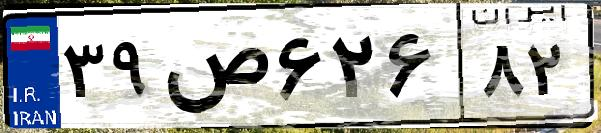2: (330, 28, 385, 110), (525, 38, 570, 115)
3: (57, 26, 110, 100)
6: (270, 28, 330, 110), (385, 28, 445, 110)
8: (475, 38, 525, 113)
9: (110, 28, 158, 98)
ص: (158, 20, 270, 120)
